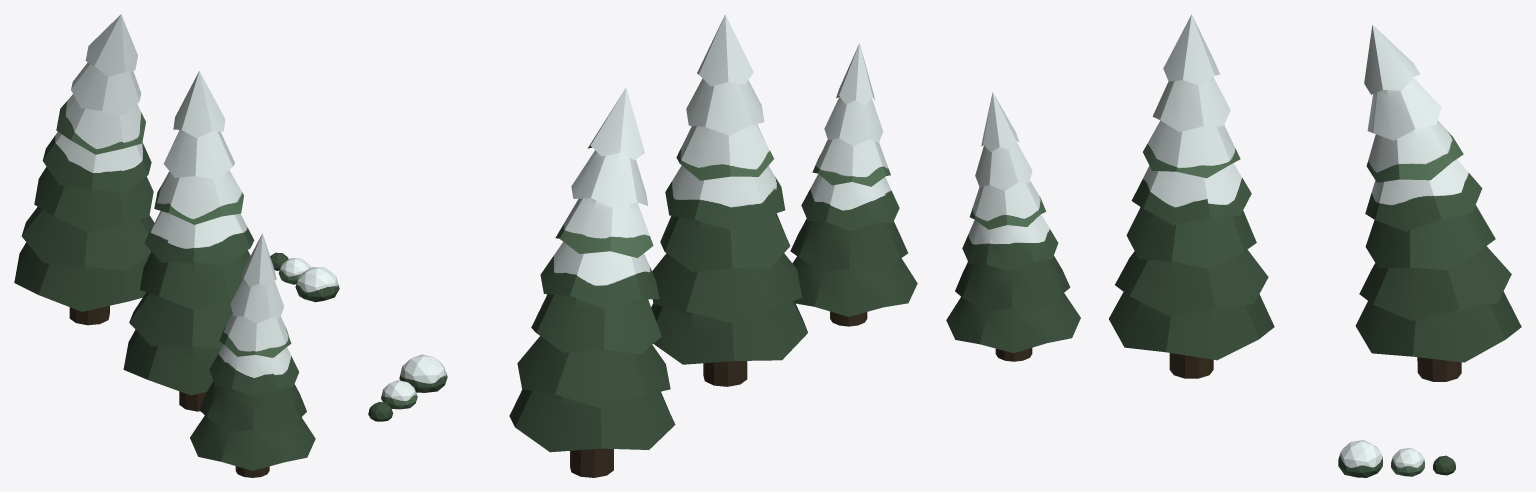
Rendered from TreesnBushes.fbx.
3 renders of one model, left to right at view 1: azimuth 30°, elevation 25°; view 2: azimuth 150°, elevation 25°; view 3: azimuth 270°, elevation 25°, orthographic. The views are drawn at different scales.
Visible parts, largest first — view 1: Cylinder.017, Cylinder.015, Cylinder.011, big bush, bush; view 2: Cylinder.017, Cylinder.015, Cylinder.011, big bush, bush; view 3: Cylinder.017, Cylinder.015, Cylinder.011, big bush, bush.
Boxes of the visible parts, x1=… form: Cylinder.017: x1=14, y1=14, x2=154, y2=325; Cylinder.015: x1=123, y1=71, x2=254, y2=411; Cylinder.011: x1=190, y1=233, x2=315, y2=477; big bush: x1=295, y1=267, x2=339, y2=302; bush: x1=278, y1=258, x2=310, y2=284; Cylinder.017: x1=509, y1=87, x2=675, y2=477; Cylinder.015: x1=651, y1=14, x2=807, y2=386; Cylinder.011: x1=790, y1=43, x2=917, y2=326; big bush: x1=399, y1=354, x2=447, y2=392; bush: x1=381, y1=380, x2=417, y2=409; Cylinder.017: x1=1355, y1=24, x2=1521, y2=381; Cylinder.015: x1=1109, y1=14, x2=1274, y2=378; Cylinder.011: x1=946, y1=92, x2=1080, y2=361; big bush: x1=1338, y1=440, x2=1382, y2=477; bush: x1=1391, y1=447, x2=1424, y2=476.
Bounding box in the file's own units: 1021 × 1078 × 1580.
